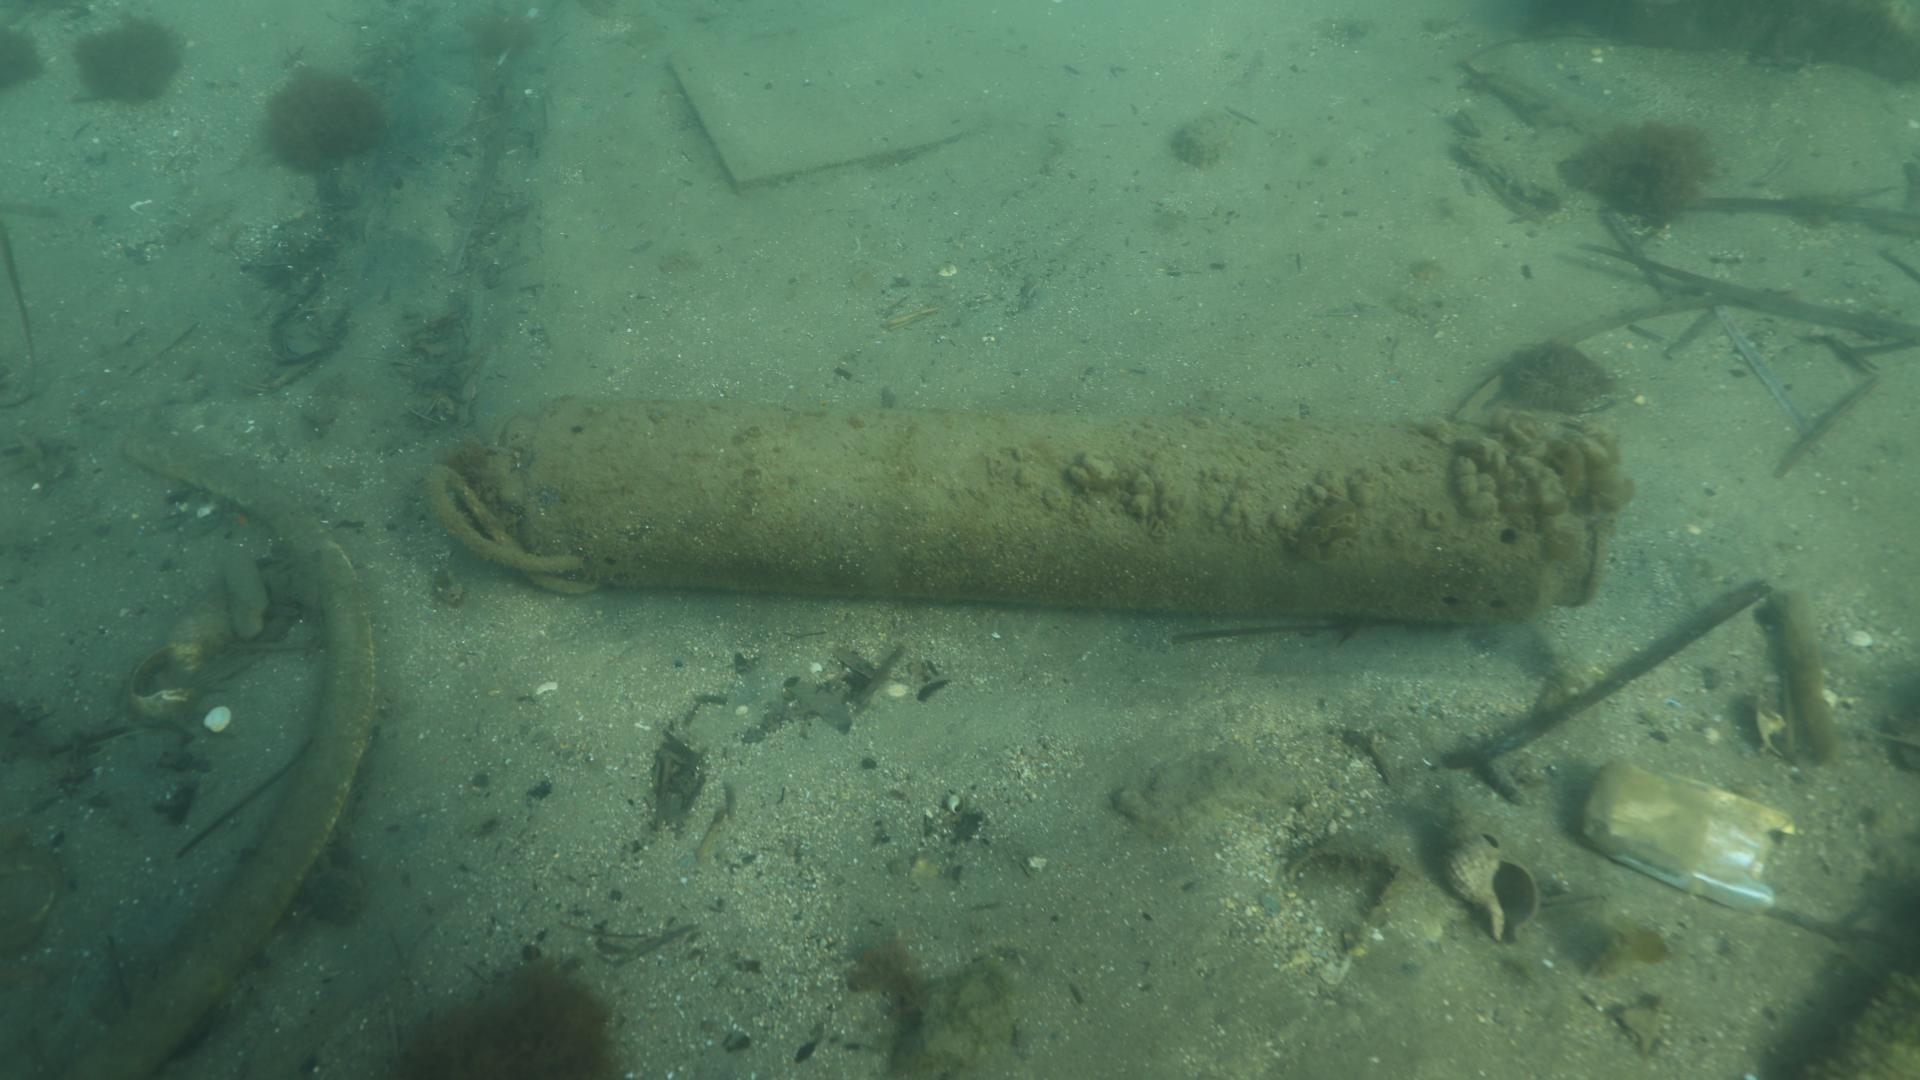eel fish trap: (443, 396, 1619, 626)
rope: (423, 459, 599, 596)
